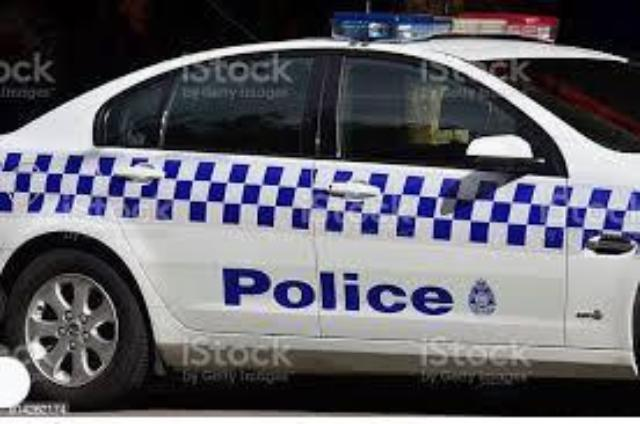police_car: (0, 9, 640, 413)
